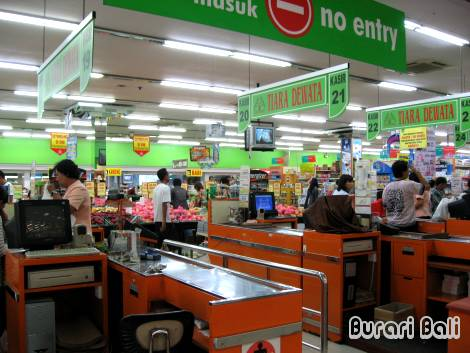Age_20_30: (339, 174, 357, 193), (157, 166, 172, 183)
Age_30_40: (53, 159, 81, 188)
E_Indian: (53, 159, 81, 188), (339, 174, 357, 193), (157, 166, 172, 183)
Emotion_Neutral: (53, 159, 81, 188), (339, 174, 357, 193), (157, 166, 172, 183)
G_ Female: (339, 174, 357, 193)
G_Male: (53, 159, 81, 188), (157, 166, 172, 183)
Not_Face: (389, 159, 411, 178)
